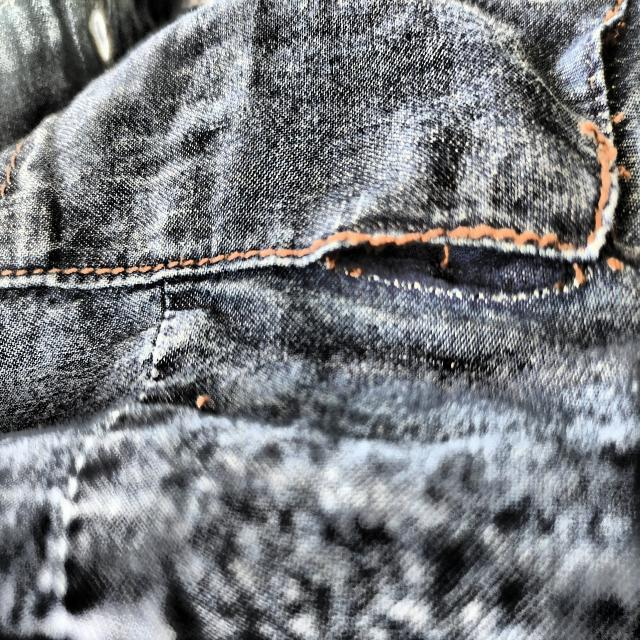hole: (323, 211, 587, 316)
seam: (1, 233, 322, 295), (589, 0, 629, 282), (144, 286, 174, 395)
